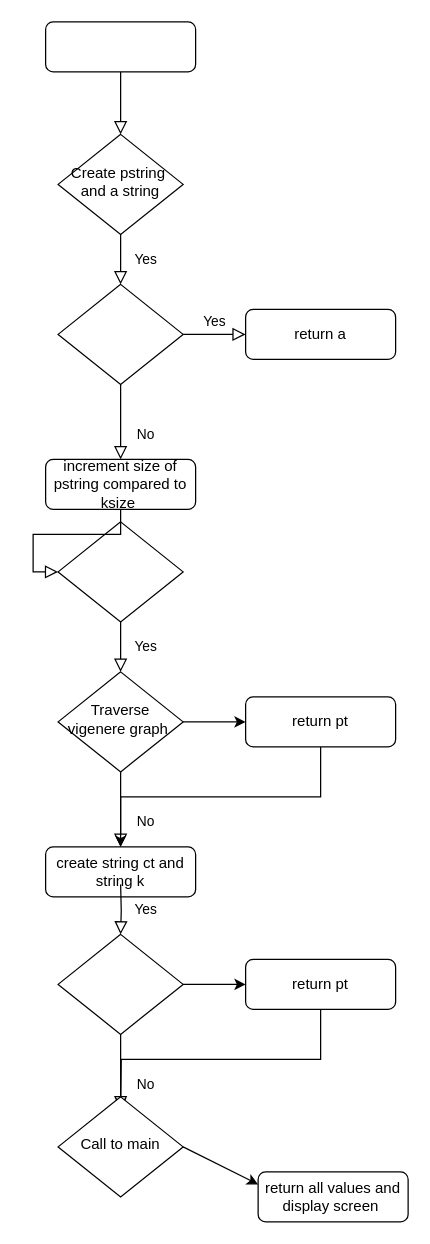
Some shapes in this 430 by 1244 pixel diagram are drawn without their labels. Each missing label, with the centre of its shape:
Create string pt and a string k: the point at 120,571
Is astring greater than pstrings size: the point at 120,333
RunProgram: the point at 120,46
Traverse vigenere graph with for loop: the point at 120,983
